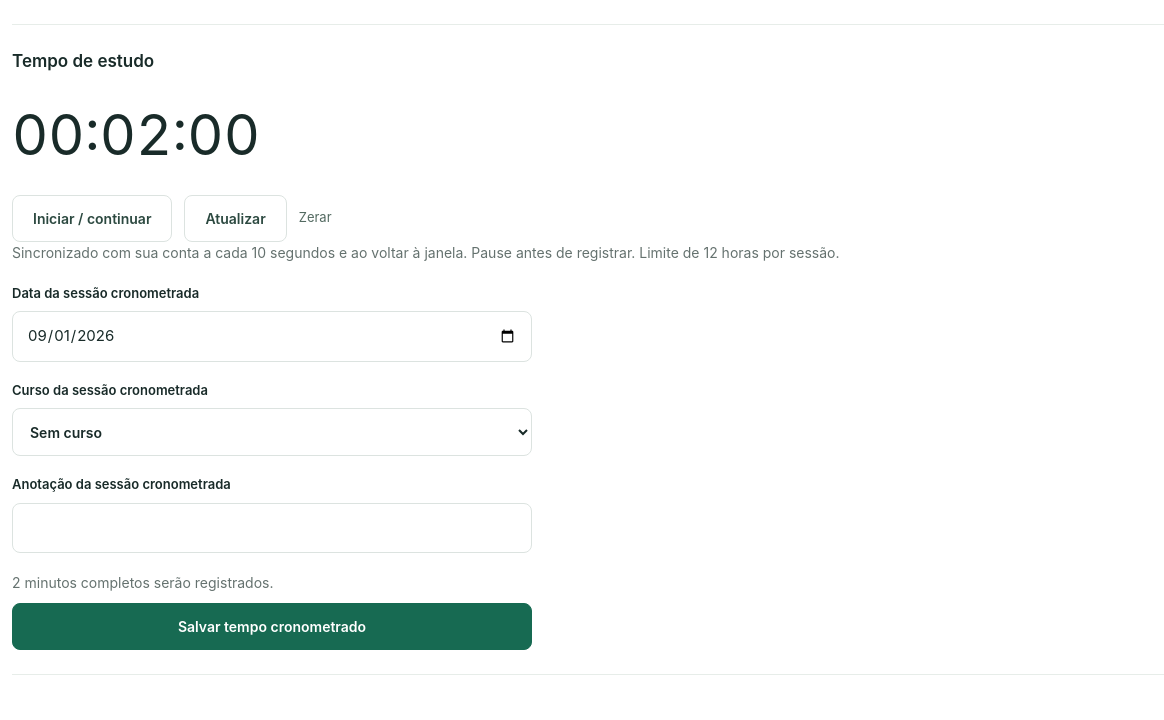
saves paused time with the observed version and run id
Click the button "Salvar tempo cronometrado" at (272,626), box [12, 603, 532, 650]
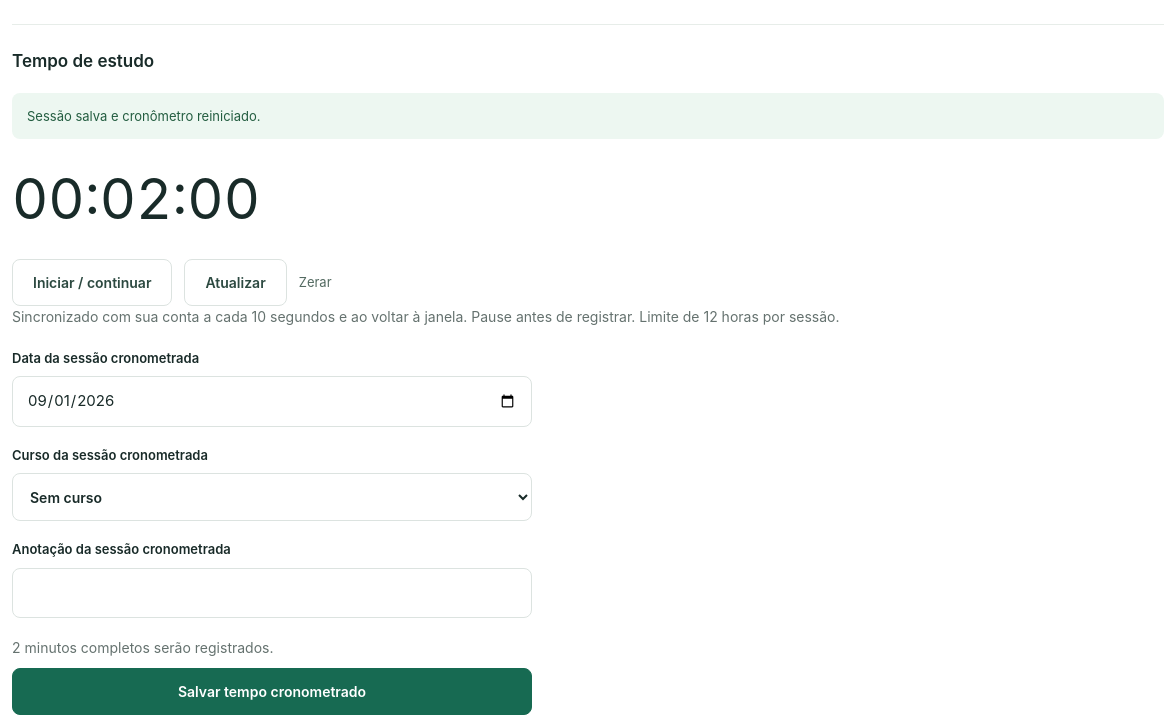
Check: the text "Sessão salva e cronômetro reiniciado." is shown, box [12, 92, 1163, 139]
